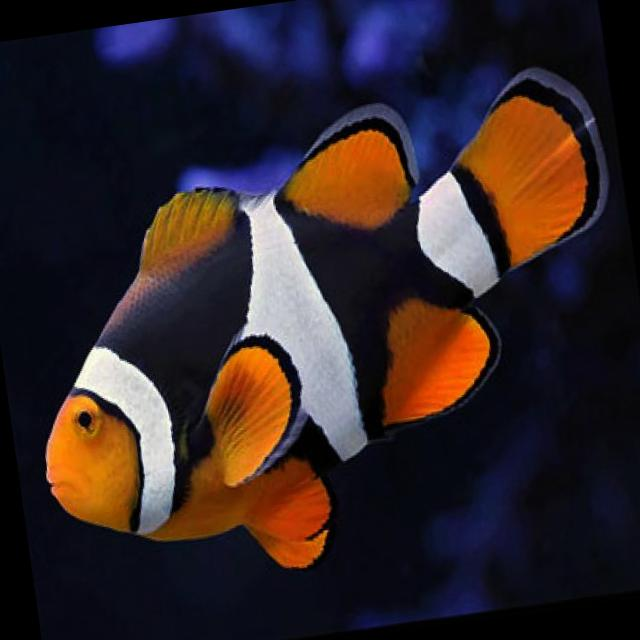ClownFish: (0, 63, 640, 603)
